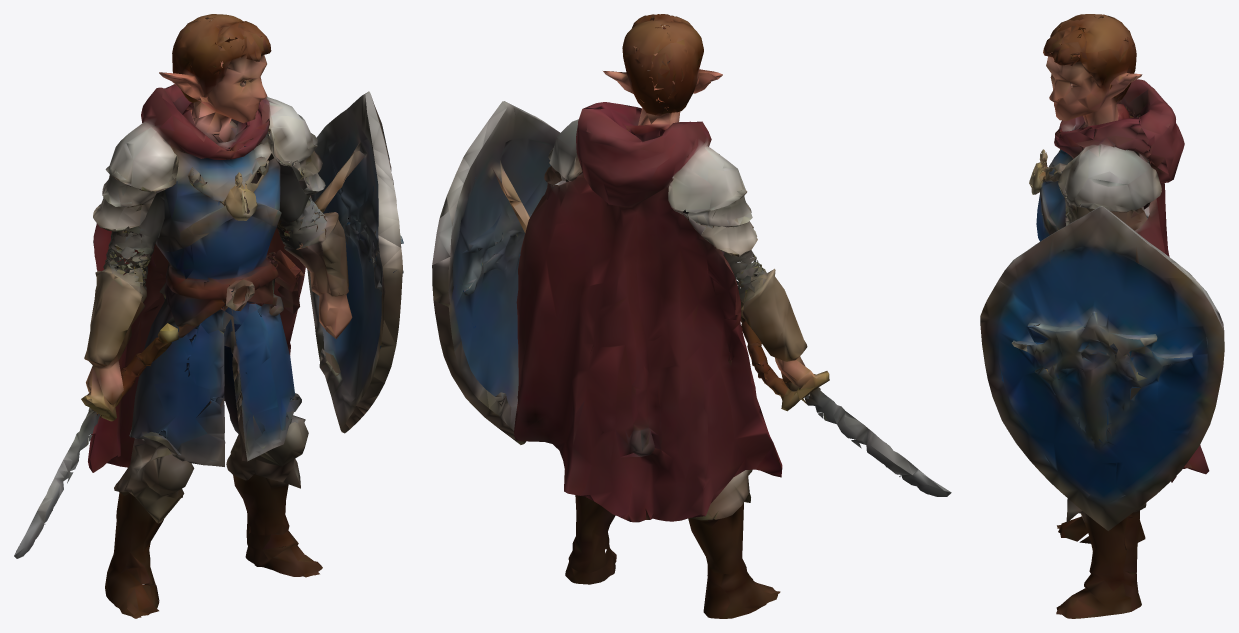
The model's file is fig_vanguard.glb.
The picture shows the model from 3 angles, left to right: view 1: azimuth 30°, elevation 25°; view 2: azimuth 150°, elevation 25°; view 3: azimuth 270°, elevation 25°; orthographic projection.
Parts seen in each view (by area): view 1: fig_vanguard; view 2: fig_vanguard; view 3: fig_vanguard.
Boxes of the visible parts, x1,y1,x2,y2 form: fig_vanguard: (14,14,403,618); fig_vanguard: (432,14,951,618); fig_vanguard: (980,14,1224,618).
Bounding box in the file's own units: 0.7338 × 0.927 × 0.3695.
Materials: 1 (1 with a texture image).
